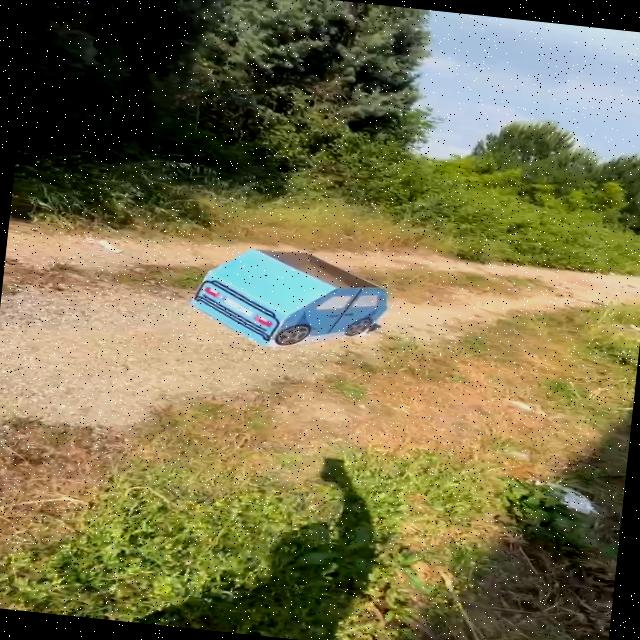blue_car: (175, 227, 415, 367)
